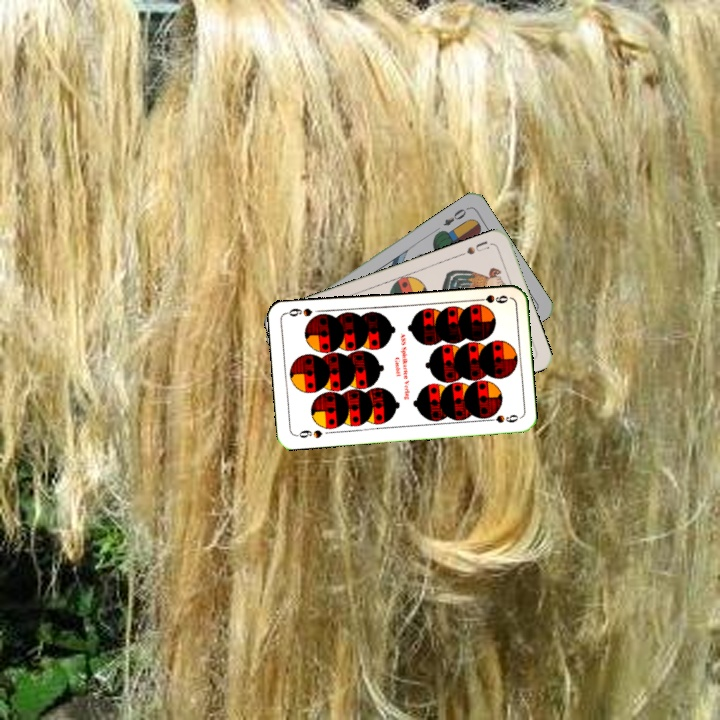EO: (439, 203, 471, 228)
S9: (471, 291, 511, 306), (292, 426, 324, 441)
SU: (456, 237, 492, 259)
